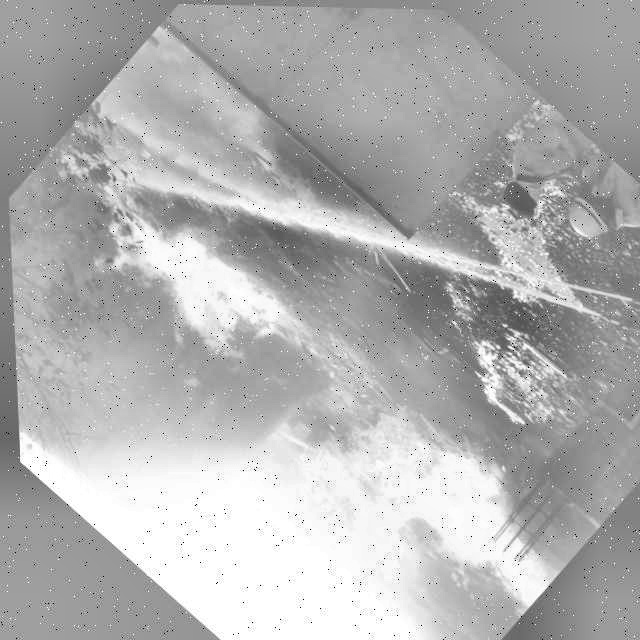Fire: (236, 335, 583, 640), (51, 158, 294, 388)
